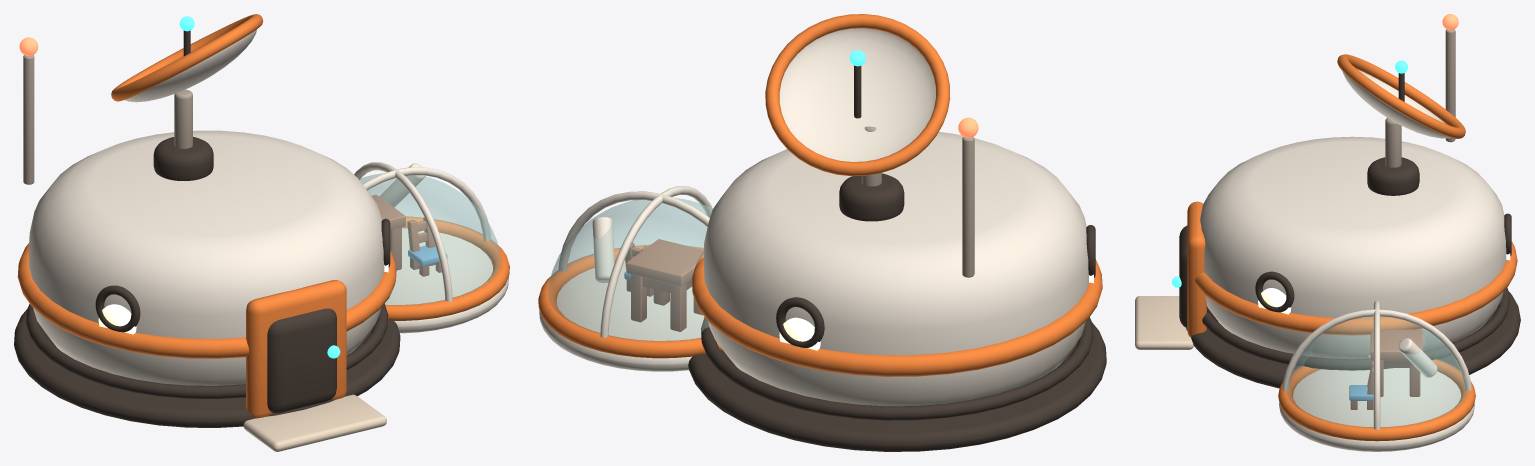
File: research.glb
The picture shows the model from 3 angles, left to right: view 1: azimuth 30°, elevation 25°; view 2: azimuth 150°, elevation 25°; view 3: azimuth 270°, elevation 25°; orthographic projection. The views are drawn at different scales.
Visible parts, largest first — view 1: Cylinder.001, Sphere.003, Cylinder, Torus, Cube.002, Cube.001, Cylinder.008, Cube.003, Torus.001, Torus.006, Torus.005, Cylinder.005 (+10 smaller); view 2: Cylinder.001, Sphere.003, Sphere.001, Cylinder, Torus, Cylinder.008, Torus.005, Torus.001, table_small, Torus.006, Cylinder.005, Torus.008 (+5 smaller); view 3: Cylinder.001, Sphere.003, Cylinder.008, Torus, Cylinder, Torus.006, Torus.001, Torus.005, Cube.003, Cube.001, Torus.008, table_small (+10 smaller).
Boxes of the visible parts, x1,y1,x2,y2 form: Cylinder.001: (29, 130, 384, 385); Sphere.003: (359, 173, 500, 305); Cylinder: (14, 309, 400, 427); Torus: (17, 243, 396, 358); Cube.002: (267, 308, 336, 413); Cube.001: (246, 280, 346, 418); Cylinder.008: (385, 228, 508, 333); Cube.003: (243, 394, 386, 451); Torus.001: (26, 303, 388, 398); Torus.006: (385, 216, 509, 320); Torus.005: (111, 14, 263, 101); Cylinder.005: (153, 137, 213, 180); Cylinder.001: (704, 132, 1088, 406); Sphere.003: (548, 198, 712, 341); Sphere.001: (779, 28, 935, 161); Cylinder: (688, 322, 1106, 451); Torus: (691, 251, 1102, 376); Cylinder.008: (539, 260, 704, 371); Torus.005: (765, 14, 950, 176); Torus.001: (701, 317, 1093, 420); table_small: (626, 239, 703, 331); Torus.006: (538, 245, 722, 358); Cylinder.005: (839, 173, 904, 221); Torus.008: (600, 186, 712, 337); Cylinder.001: (1200, 136, 1506, 359); Sphere.003: (1286, 317, 1467, 427); Cylinder.008: (1279, 368, 1474, 451); Torus: (1195, 241, 1517, 335); Cylinder: (1186, 291, 1520, 388); Torus.006: (1278, 359, 1475, 441); Torus.001: (1202, 287, 1510, 370); Torus.005: (1337, 54, 1465, 138); Cube.003: (1135, 296, 1193, 349); Cube.001: (1187, 201, 1206, 337); Torus.008: (1282, 309, 1471, 390); table_small: (1370, 329, 1422, 396).
Bounding box in the file's own units: 2.88 × 1.86 × 2.36.
10 materials, 1 textured.
